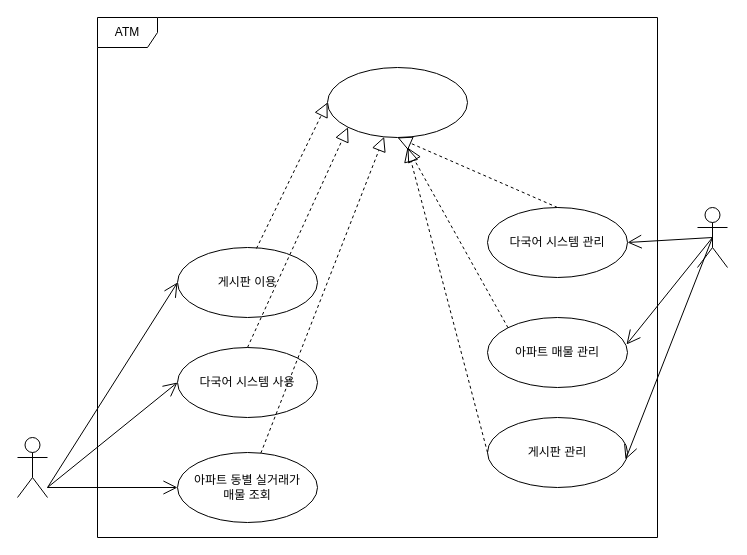
Image size: 747x555. Some labels were removed from this diagram. Here are the shapes that lost their labels. From the top down, the centre of each, then its label:
At point (397, 102): "사용자 인증".
At point (712, 237): "Coach".
At point (32, 467): "User".
